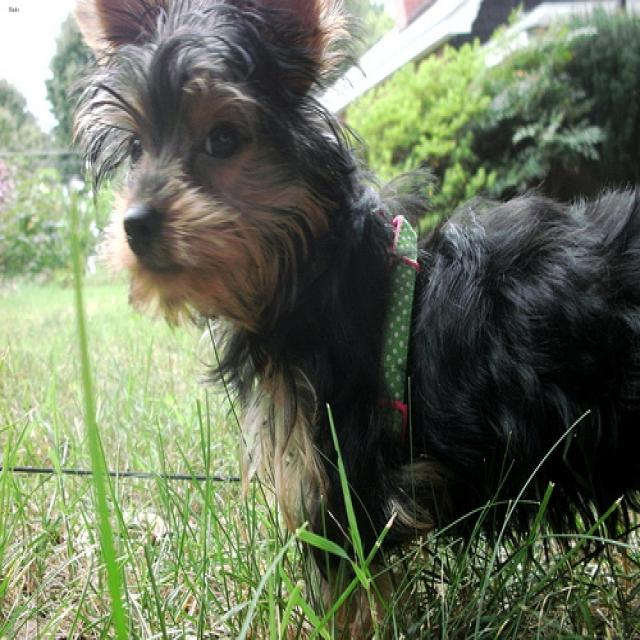dog-yorkshire_terrier: (64, 2, 637, 637)
